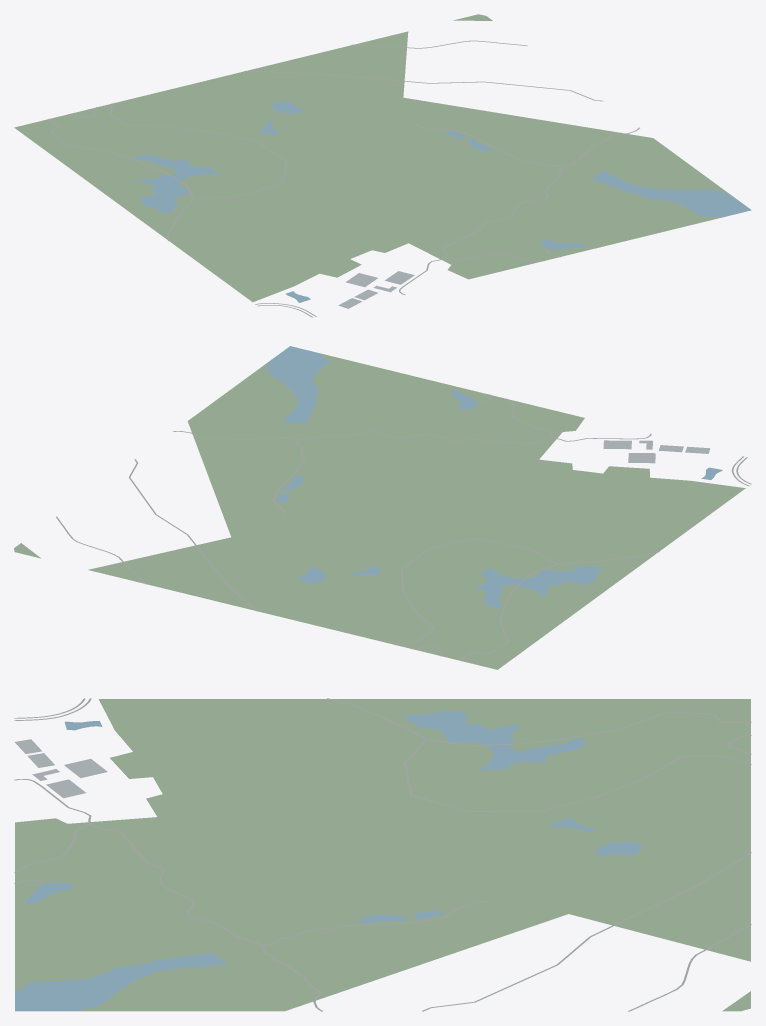
The model's file is -5_10-known-coarse.glb.
3 views of the same model, one above another, from view 1: azimuth 30°, elevation 25°; view 2: azimuth 150°, elevation 25°; view 3: azimuth 270°, elevation 25° (orthographic). The views are drawn at different scales.
Size of the model in its own units: 1003 by 0.15 by 998.
